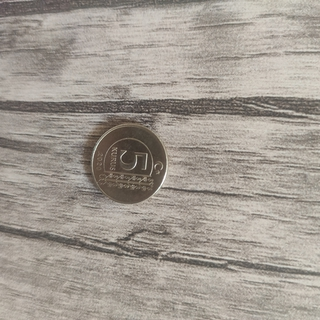5KURUS: (89, 121, 168, 205)
